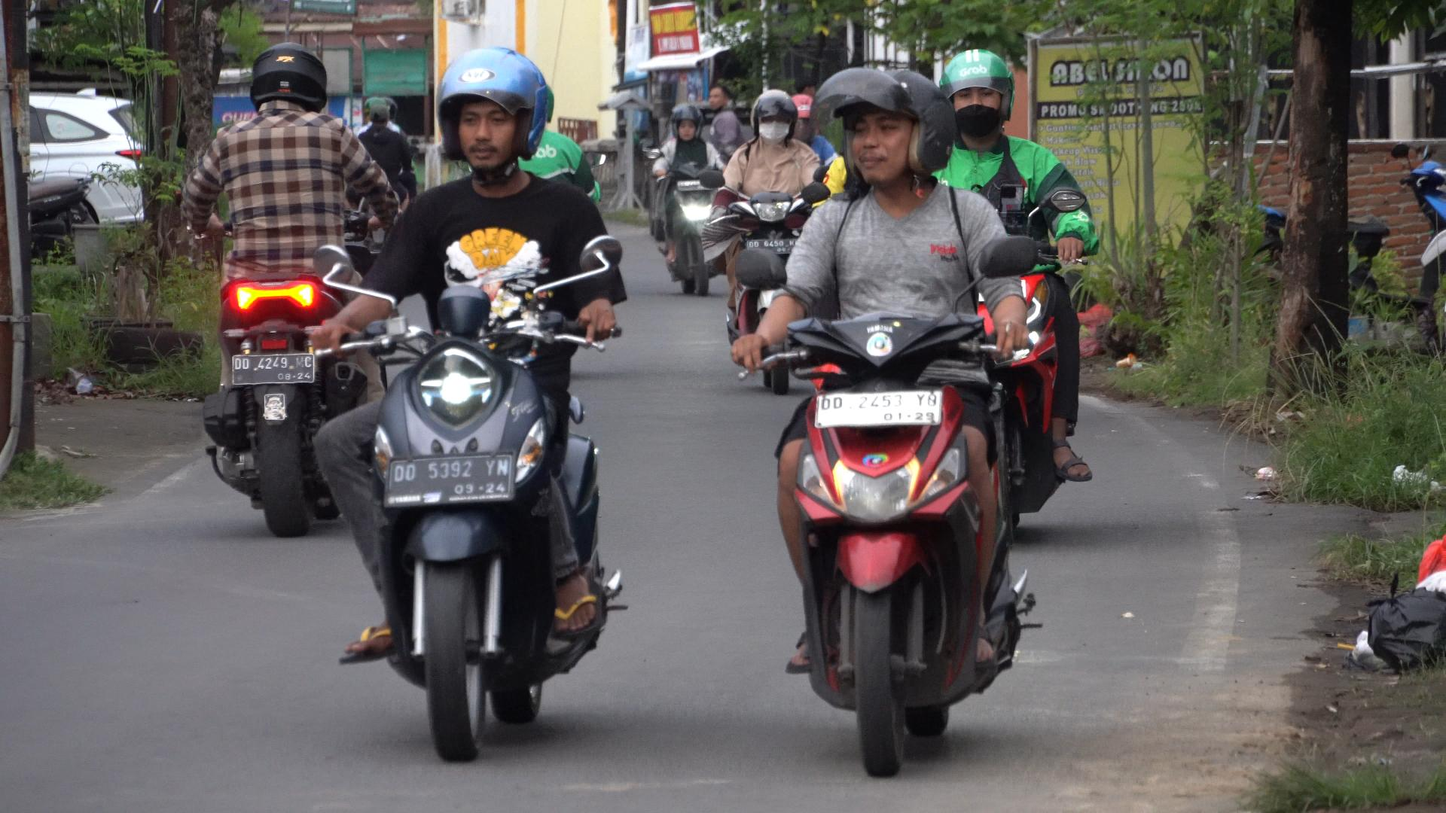number-plate: (387, 452, 517, 504), (821, 392, 945, 424)
